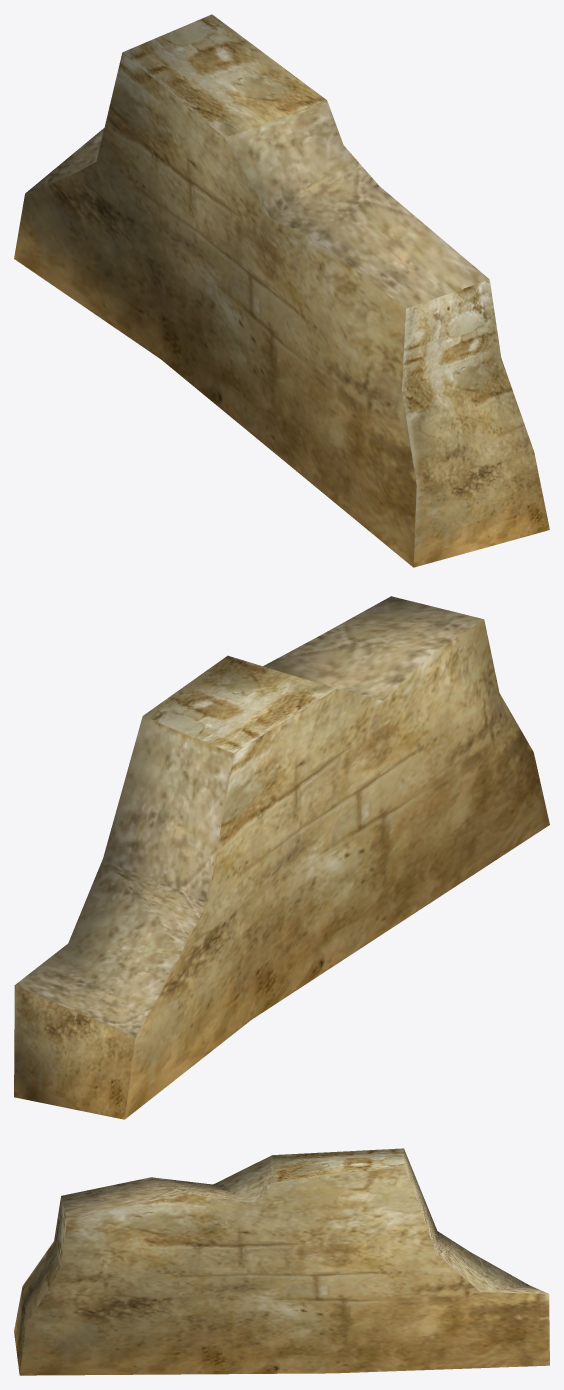
File: S_Build_Desert034.FBX
3 views of the same model, one above another, from view 1: azimuth 30°, elevation 25°; view 2: azimuth 150°, elevation 25°; view 3: azimuth 270°, elevation 25° (orthographic). The views are drawn at different scales.
Visible parts, largest first — view 1: S_Build_Desert034; view 2: S_Build_Desert034; view 3: S_Build_Desert034.
Boxes of the visible parts, left/top/right/bottom form: S_Build_Desert034: left=14, top=14, right=549, bottom=567; S_Build_Desert034: left=14, top=596, right=549, bottom=1119; S_Build_Desert034: left=14, top=1148, right=549, bottom=1375.
Size of the model in its own units: 82.16 by 421 by 170.
